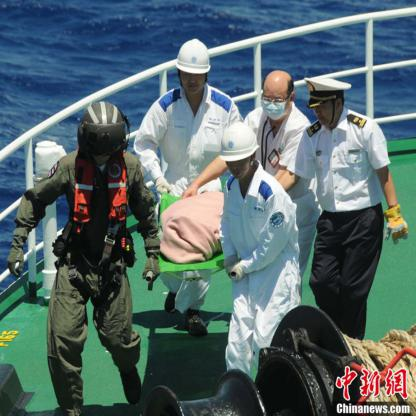face: (264, 85, 289, 120), (182, 64, 207, 95), (227, 153, 253, 181), (315, 99, 337, 127)
